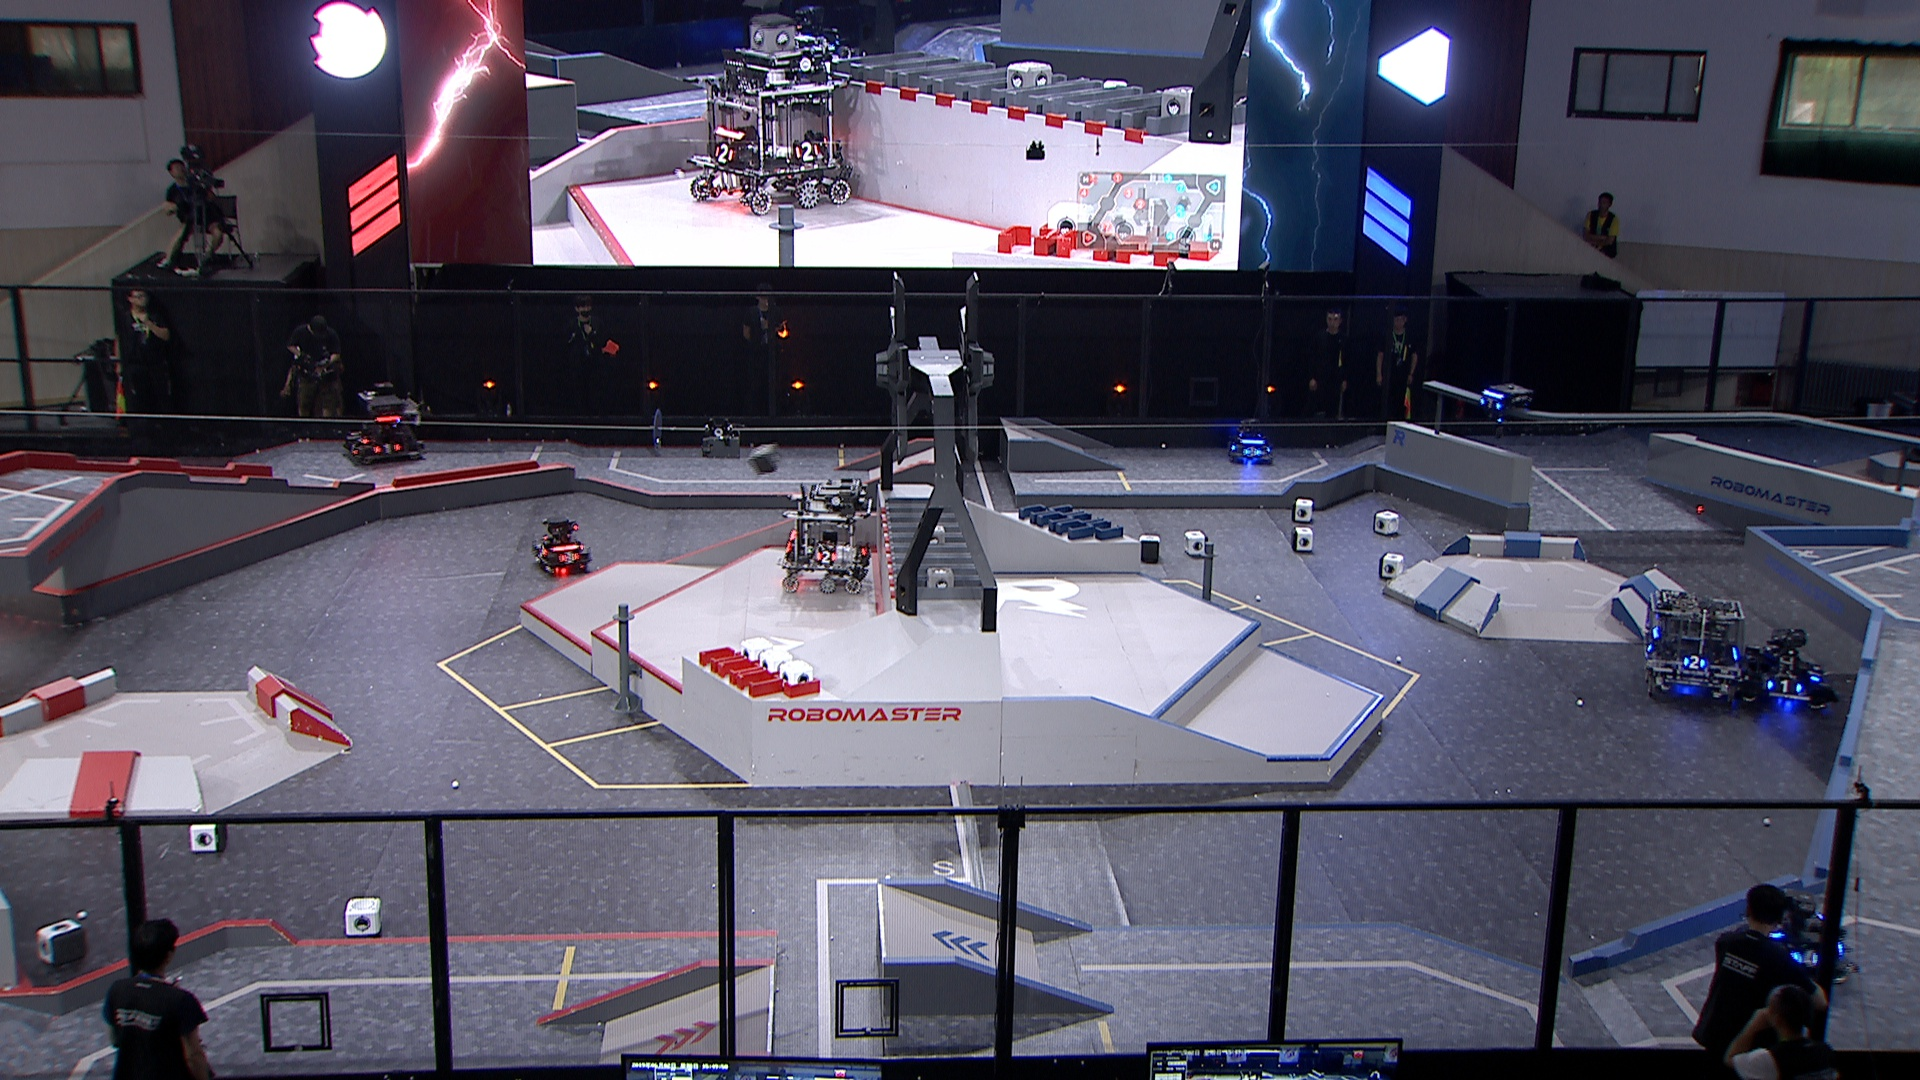armor: (1766, 675, 1804, 698), (1789, 945, 1822, 967), (371, 440, 404, 456), (1684, 654, 1709, 671), (1477, 396, 1503, 411), (556, 550, 582, 566), (816, 547, 836, 564), (1240, 444, 1263, 458), (1807, 665, 1822, 683), (345, 440, 361, 458), (351, 433, 371, 446), (537, 541, 550, 560)
car: (775, 473, 877, 597), (1640, 589, 1746, 698), (1756, 887, 1863, 986), (1735, 624, 1840, 711), (339, 382, 429, 467), (529, 517, 593, 575), (1225, 417, 1276, 463)
ignore: (683, 36, 860, 216)
watcher: (1472, 381, 1536, 436)
